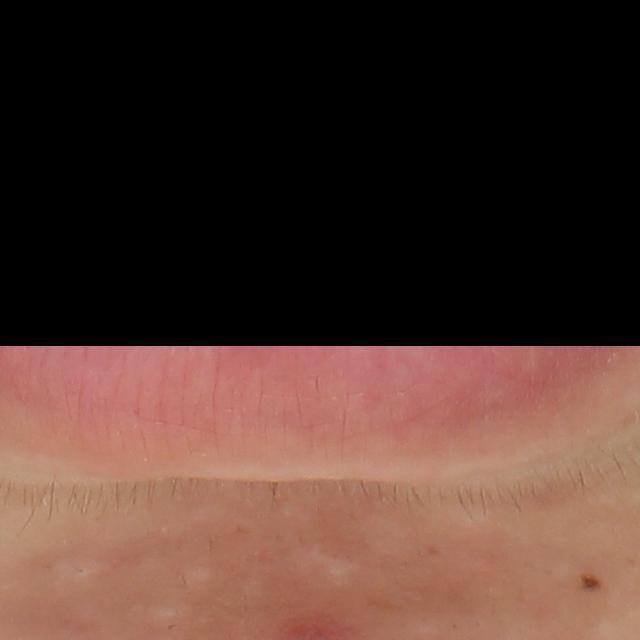hypertrophic_scar: (38, 544, 110, 585), (304, 544, 359, 588), (132, 597, 195, 624), (167, 561, 219, 593)
nevus: (582, 571, 605, 592)
